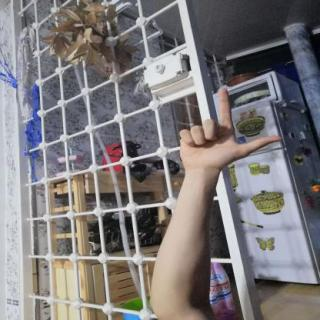LAAM: (167, 81, 291, 178)
